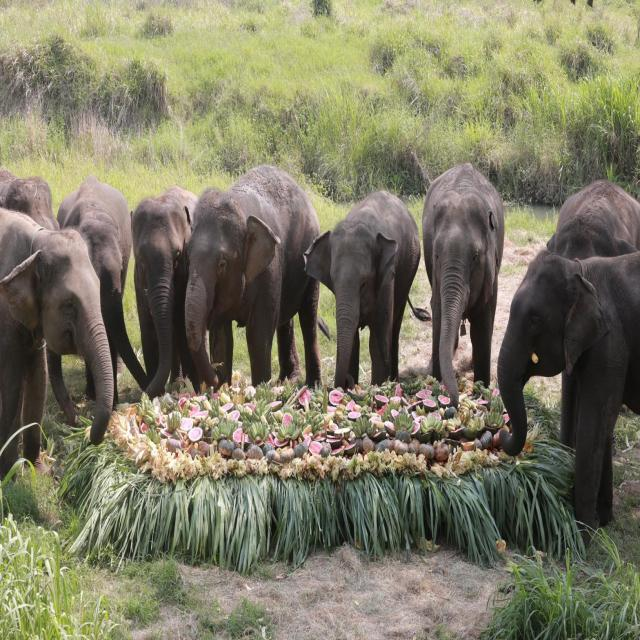Elephant: (488, 240, 640, 526), (179, 133, 334, 395), (1, 201, 122, 486), (317, 159, 427, 404), (54, 160, 138, 430), (116, 174, 204, 416), (426, 158, 498, 396), (549, 139, 640, 271), (1, 136, 63, 248)
